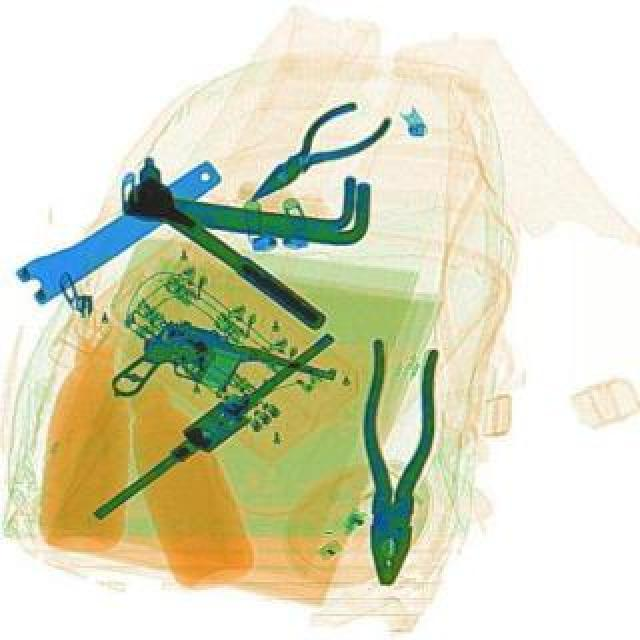gun: (106, 304, 338, 456)
wrench: (224, 84, 396, 220), (348, 336, 440, 588)
